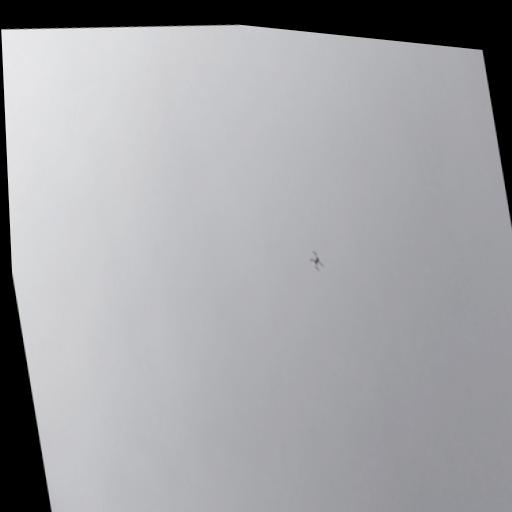drones: (308, 248, 326, 274)
